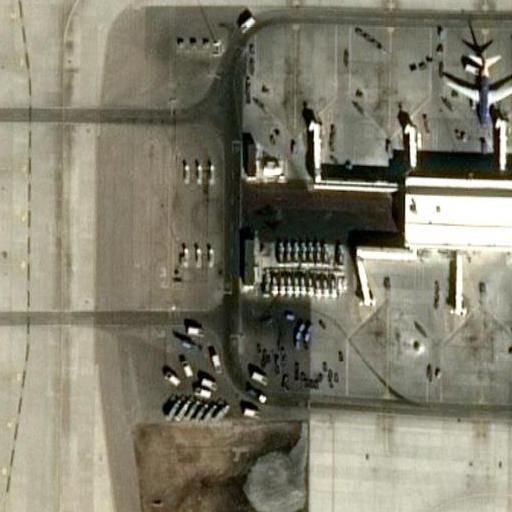Aircraft: (431, 39, 512, 133)
